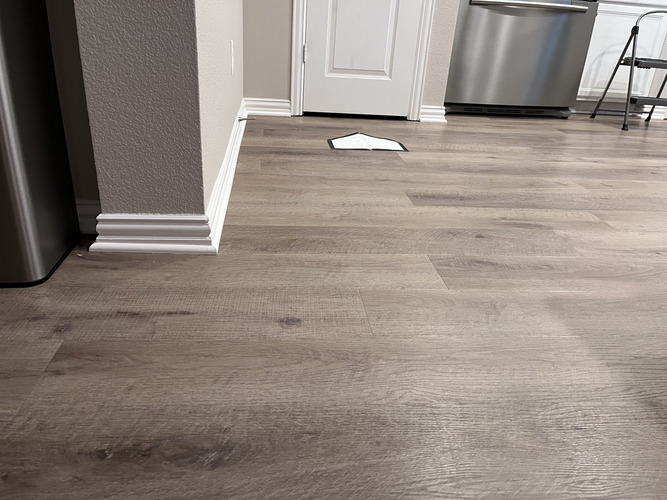homeplate: (326, 132, 408, 152)
